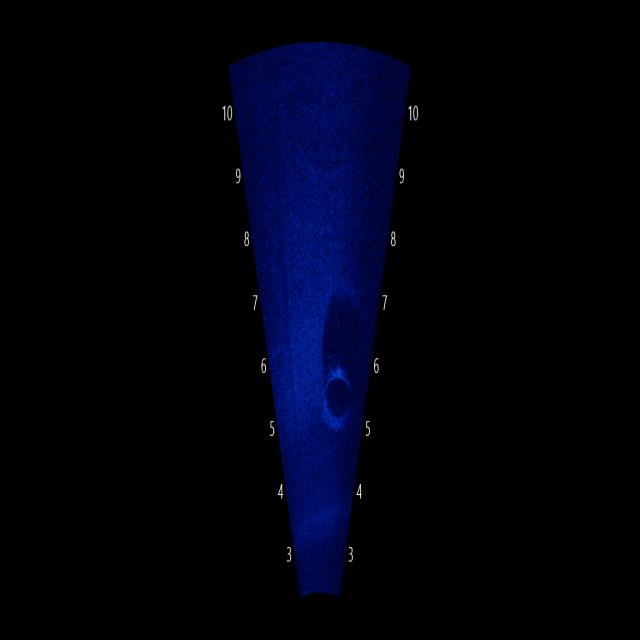circle: (307, 345, 358, 449)
